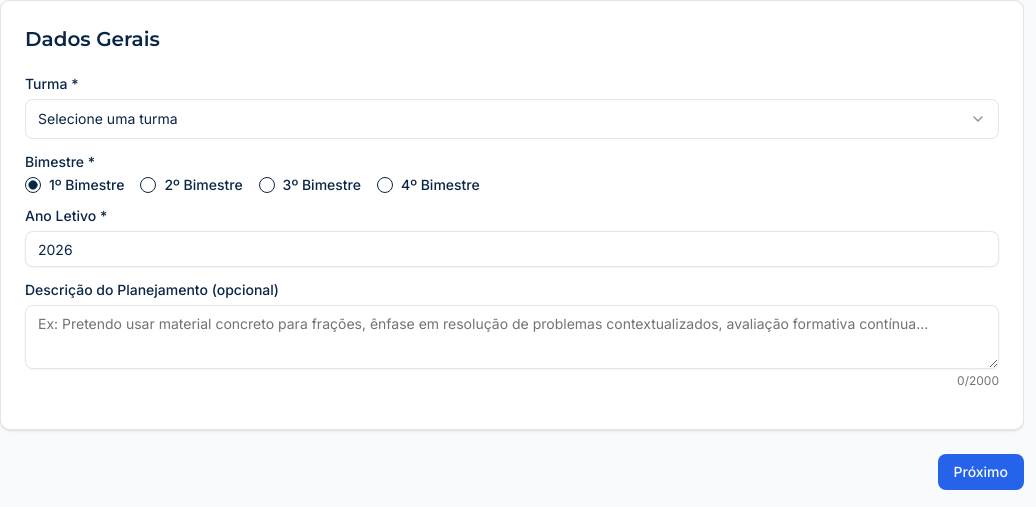
Step1DadosGerais - Story 16.1: campo descricao › ✅ AC5 (Story 16.1): contador de caracteres atualiza conforme digitação
The width and height of the screenshot is (1036, 507).
Replace the text in the text box labelled "Descrição do Planejamento (opcional)" with "Texto de exemplo": (512, 337) [25, 305, 999, 369]
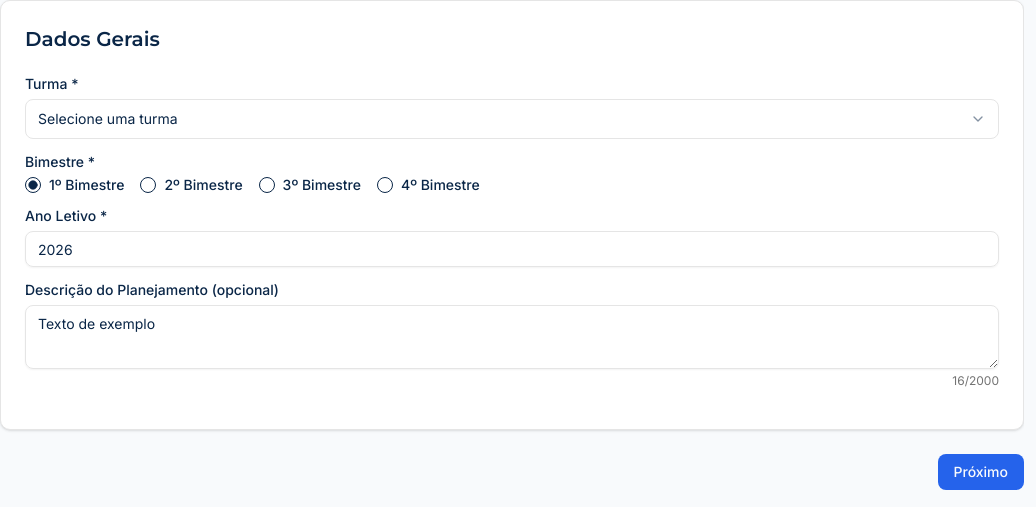
Now the text "16/2000" is shown, box [952, 373, 999, 388]
